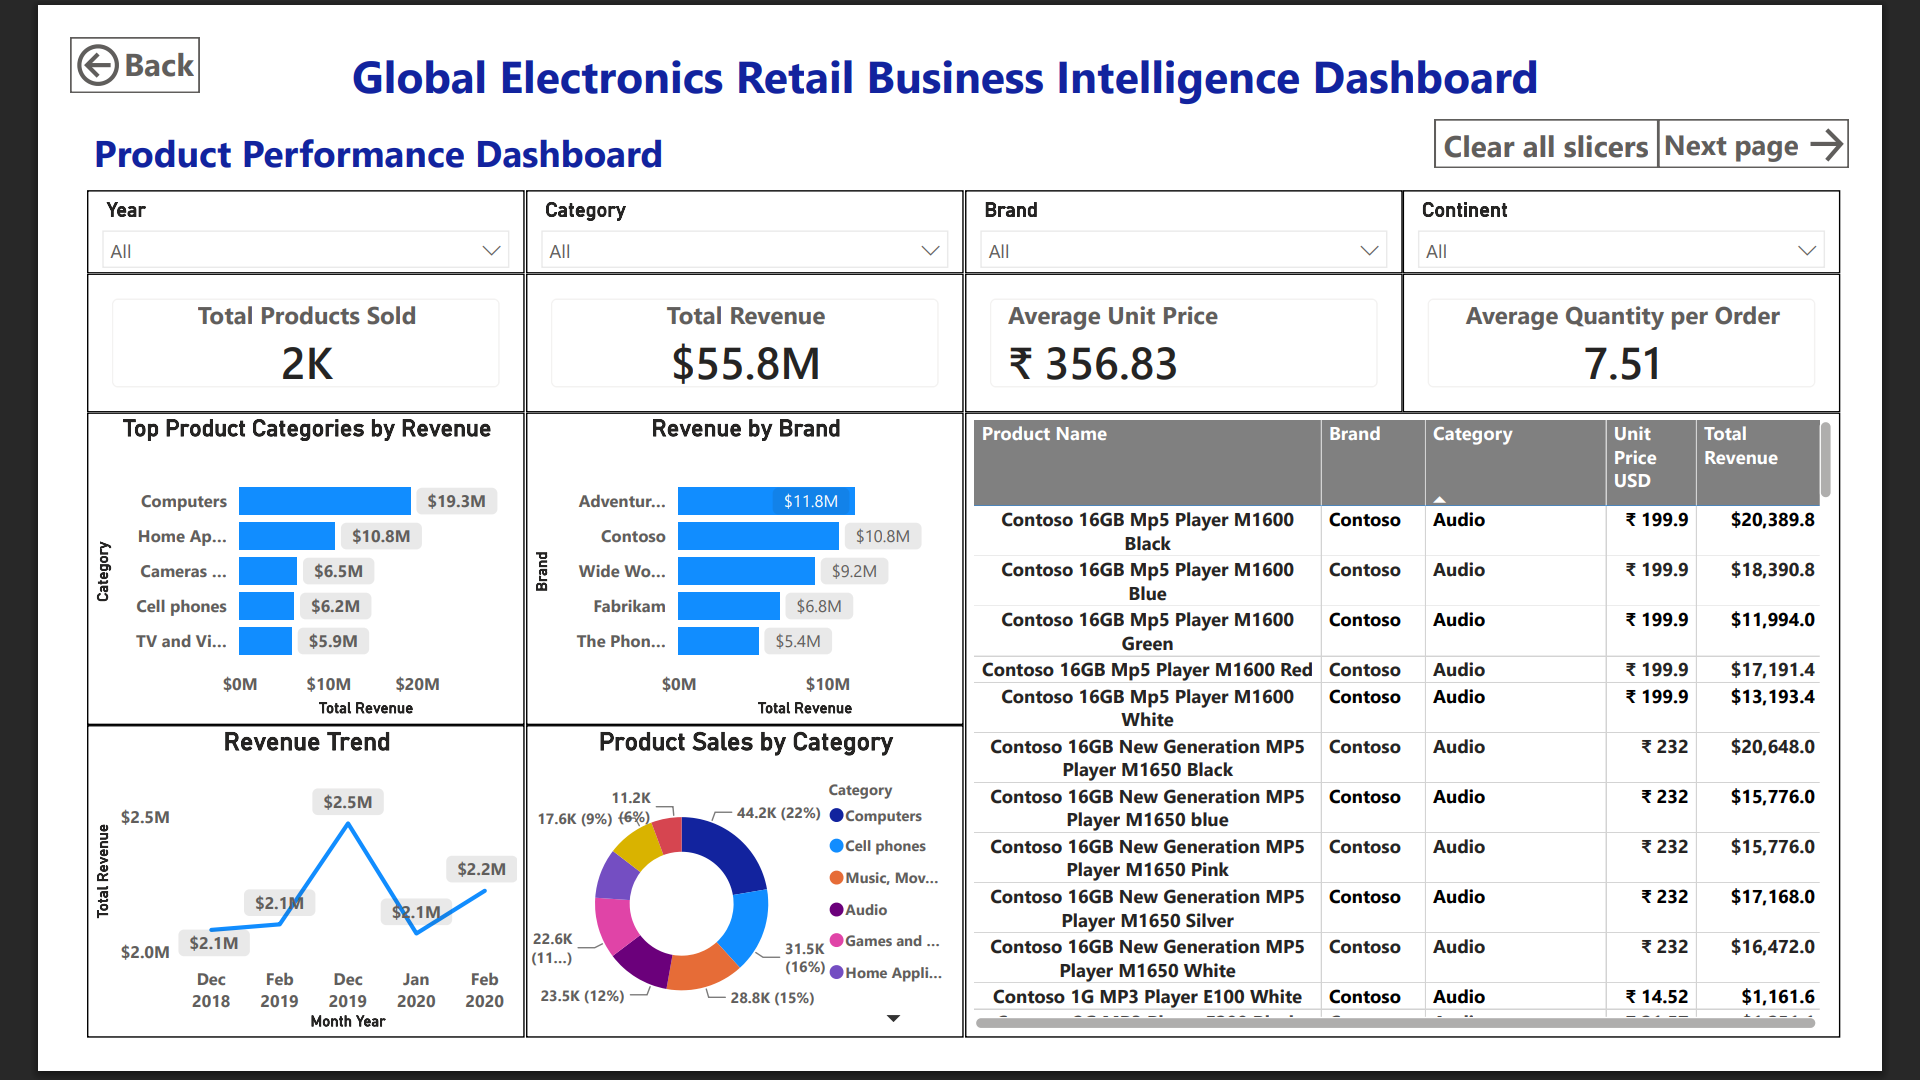

What the dashboard file says about the page in this screenshot:
{"tool":"powerbi","page":{"name":"Product Performance","canvas":[1280,720],"ordinal":3},"visuals":[{"type":"textbox","box":[170,0,919.6,58.7],"z":0},{"type":"textbox","box":[12.3,59,425.4,50.8],"z":1000},{"type":"slicer","fields":{"Values":["Calendar.Year"]},"box":[12.2,110.1,315,60],"z":2000},{"type":"slicer","fields":{"Values":["Products.Category"]},"box":[327.7,110.1,315,60],"z":3000},{"type":"slicer","fields":{"Values":["Products.Brand"]},"box":[643.6,109.8,315,60],"z":4000},{"type":"slicer","fields":{"Values":["Customers.Continent"]},"box":[959.2,109.8,315,60],"z":5000},{"type":"cardVisual","fields":{"Data":["Sales.Total Products Sold"]},"box":[12.2,170,315,100],"z":6000},{"type":"cardVisual","fields":{"Data":["Sales.Total Revenue"]},"box":[328,170.2,315,100],"z":7000},{"type":"cardVisual","fields":{"Data":["Calendar.Average Quantity per Order"]},"box":[959.2,170.2,315,100],"z":8000},{"type":"cardVisual","fields":{"Data":["Calendar.Average Unit Price"]},"box":[643.6,170.2,315,100],"z":9000},{"type":"clusteredBarChart","title":"Top Product Categories by Revenue","fields":{"Y":["Sales.Total Revenue"],"Category":["Products.Category"]},"box":[12.3,270.3,315,225],"z":10000},{"type":"clusteredBarChart","title":"Revenue by Brand","fields":{"Category":["Products.Brand"],"Y":["Sales.Total Revenue"]},"box":[328,270.3,315,225],"z":11000},{"type":"lineChart","title":"Revenue Trend","fields":{"Category":["Calendar.Month Year"],"Y":["Sales.Total Revenue"]},"box":[12.3,495.4,315,225],"z":12000},{"type":"donutChart","title":"Product Sales by Category","fields":{"Category":["Products.Category"],"Y":["Sales.Total Quantity Sold"]},"box":[328,495,315,225],"z":13000},{"type":"tableEx","fields":{"Values":["Products.Product Name","Products.Brand","Products.Category","Products.Unit Price USD","Sales.Total Revenue"]},"box":[643.6,270.3,630,450.1],"z":14000},{"type":"actionButton","box":[0,0,92.9,40.4],"z":15000},{"type":"actionButton","box":[1143.3,58.7,137,35.5],"z":16000},{"type":"actionButton","box":[981.9,58.7,161.4,35.5],"z":17000}]}

Visuals, with their boxes in screenshot pixels (x1, y1, x2, y2), scaled from the page's 1280x720 canvas onto the 1920x1080 screenshot:
textbox: x1=255 y1=0 x2=1634 y2=88
textbox: x1=18 y1=88 x2=657 y2=165
slicer - Calendar.Year: x1=18 y1=165 x2=491 y2=255
slicer - Products.Category: x1=492 y1=165 x2=964 y2=255
slicer - Products.Brand: x1=965 y1=165 x2=1438 y2=255
slicer - Customers.Continent: x1=1439 y1=165 x2=1911 y2=255
cardVisual - Sales.Total Products Sold: x1=18 y1=255 x2=491 y2=405
cardVisual - Sales.Total Revenue: x1=492 y1=255 x2=964 y2=405
cardVisual - Calendar.Average Quantity per Order: x1=1439 y1=255 x2=1911 y2=405
cardVisual - Calendar.Average Unit Price: x1=965 y1=255 x2=1438 y2=405
"Top Product Categories by Revenue" clusteredBarChart: x1=18 y1=405 x2=491 y2=743
"Revenue by Brand" clusteredBarChart: x1=492 y1=405 x2=964 y2=743
"Revenue Trend" lineChart: x1=18 y1=743 x2=491 y2=1079
"Product Sales by Category" donutChart: x1=492 y1=742 x2=964 y2=1079
tableEx - Products.Product Name x Products.Brand: x1=965 y1=405 x2=1910 y2=1079
actionButton: x1=0 y1=0 x2=139 y2=61
actionButton: x1=1715 y1=88 x2=1919 y2=141
actionButton: x1=1473 y1=88 x2=1715 y2=141
